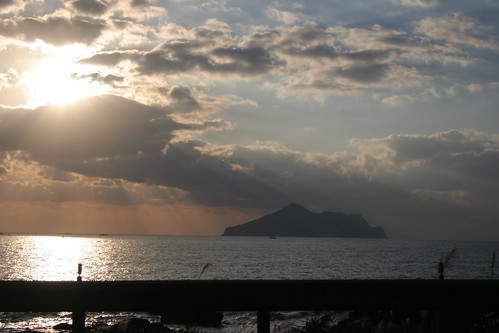turtleIsland: (224, 197, 389, 241)
